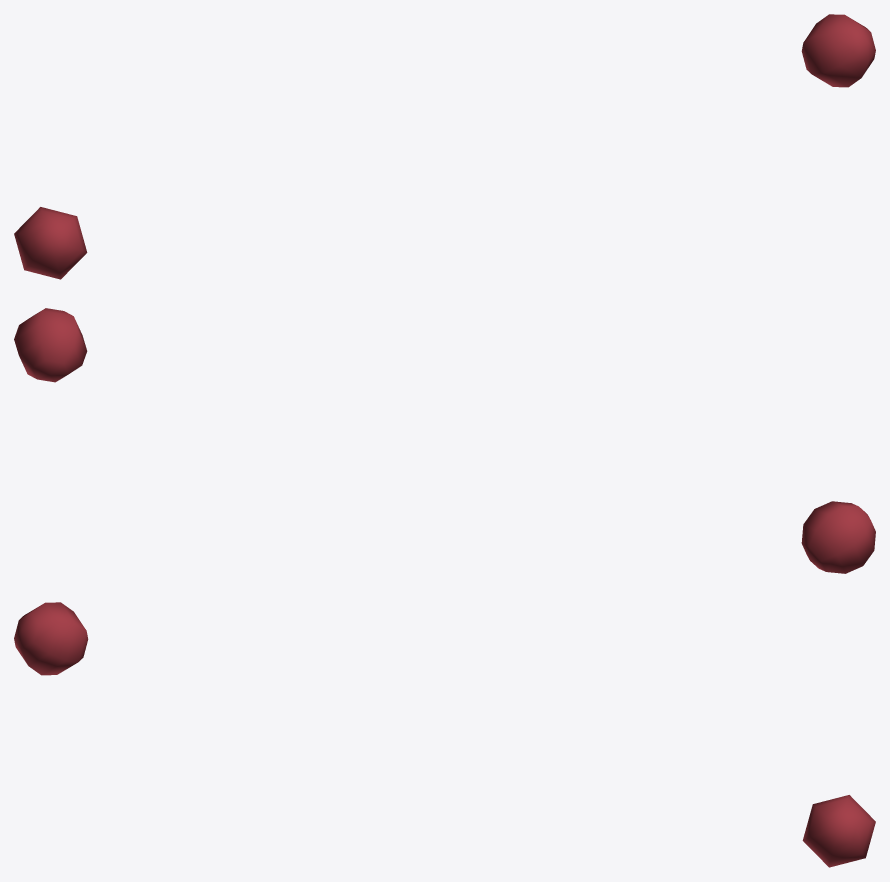
File: Earring_4.fbx
The picture shows the model from 3 angles, top to bottom: view 1: azimuth 30°, elevation 25°; view 2: azimuth 150°, elevation 25°; view 3: azimuth 330°, elevation 25°; orthographic projection.
Parts seen in each view (by area): view 1: Earring_4; view 2: Earring_4; view 3: Earring_4.
Part boxes in pixels (left/top/right/bottom): Earring_4: left=14, top=14, right=875, bottom=279; Earring_4: left=14, top=308, right=875, bottom=573; Earring_4: left=14, top=602, right=875, bottom=867.
Bounding box in the file's own units: 55.2 × 4.16 × 4.08.
